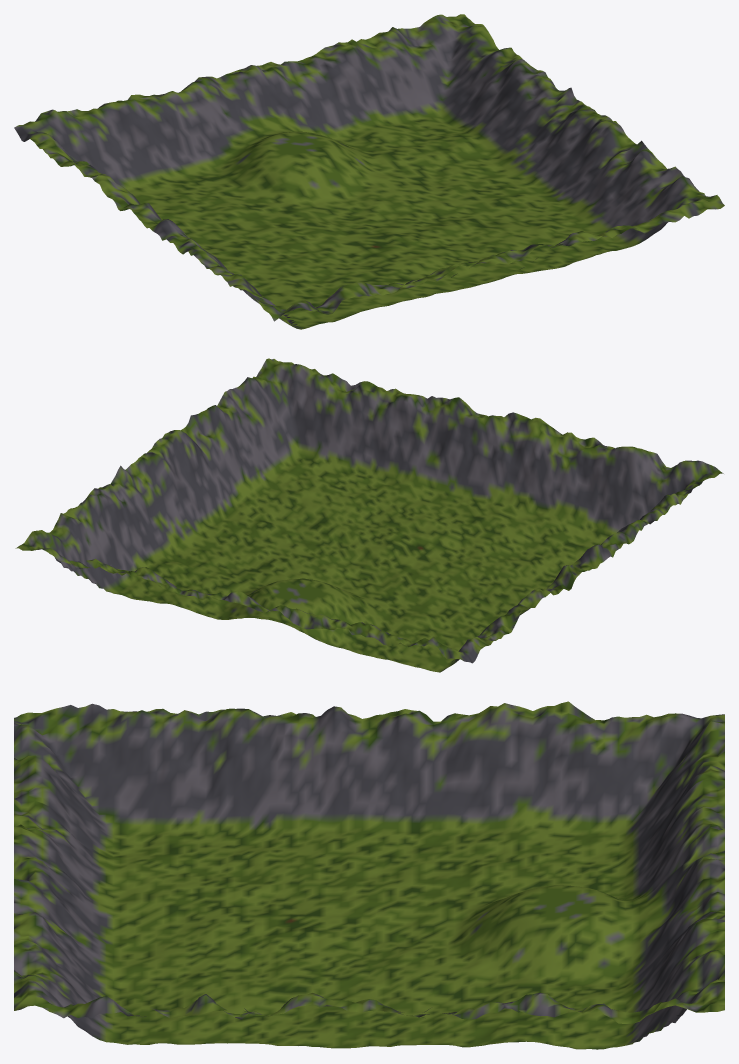
The model's file is terrain.gltf.
3 renders of one model, top to bottom at view 1: azimuth 30°, elevation 25°; view 2: azimuth 150°, elevation 25°; view 3: azimuth 270°, elevation 25°, orthographic. The views are drawn at different scales.
Bounding box in the file's own units: 640 × 94.28 × 640.
